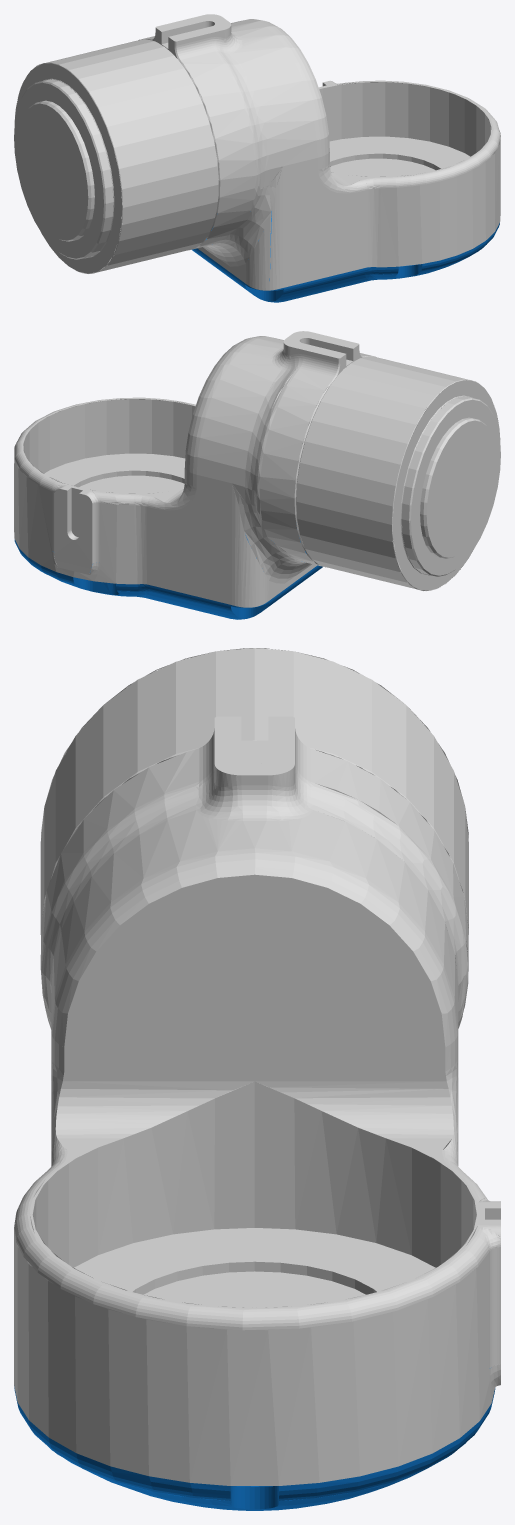
File: arm_right_link_6_b.dae
The picture shows the model from 3 angles, top to bottom: view 1: azimuth 30°, elevation 25°; view 2: azimuth 150°, elevation 25°; view 3: azimuth 270°, elevation 25°; orthographic projection. The views are drawn at different scales.
Parts seen in each view (by area): view 1: ShapeIndexedFaceSet_001, ShapeIndexedFaceSet; view 2: ShapeIndexedFaceSet_001, ShapeIndexedFaceSet; view 3: ShapeIndexedFaceSet_001, ShapeIndexedFaceSet.
Boxes of the visible parts, <box> form: ShapeIndexedFaceSet_001: <box>14,14,500,290</box>; ShapeIndexedFaceSet: <box>192,211,499,302</box>; ShapeIndexedFaceSet_001: <box>14,331,500,607</box>; ShapeIndexedFaceSet: <box>14,535,322,619</box>; ShapeIndexedFaceSet_001: <box>14,648,500,1485</box>; ShapeIndexedFaceSet: <box>14,1387,495,1510</box>.
Size of the model in its own units: 0.184 by 0.091 by 0.114.
